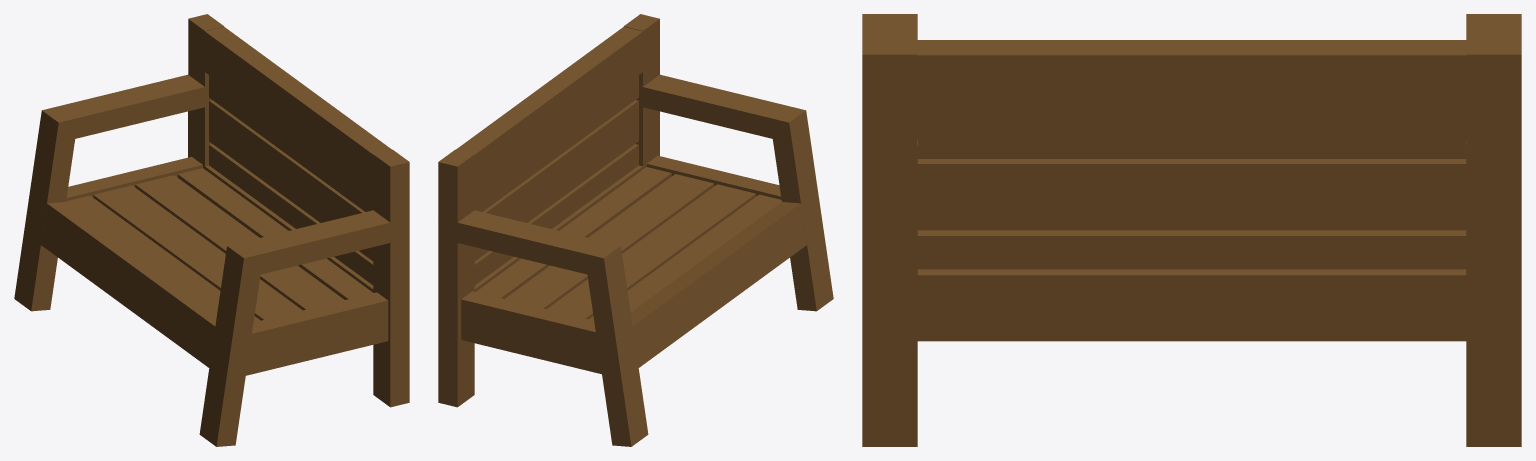
File: bench.fbx
3 views of the same model, side by side, from view 1: azimuth 30°, elevation 25°; view 2: azimuth 150°, elevation 25°; view 3: azimuth 270°, elevation 25° (orthographic). The views are drawn at different scales.
Parts seen in each view (by area): view 1: Cube.014; view 2: Cube.014; view 3: Cube.014.
Part boxes in pixels (x1,y1,x2,y2): Cube.014: (14, 14, 409, 446); Cube.014: (438, 14, 833, 446); Cube.014: (862, 14, 1521, 446).
Bounding box in the file's own units: 189 × 226 × 343.
